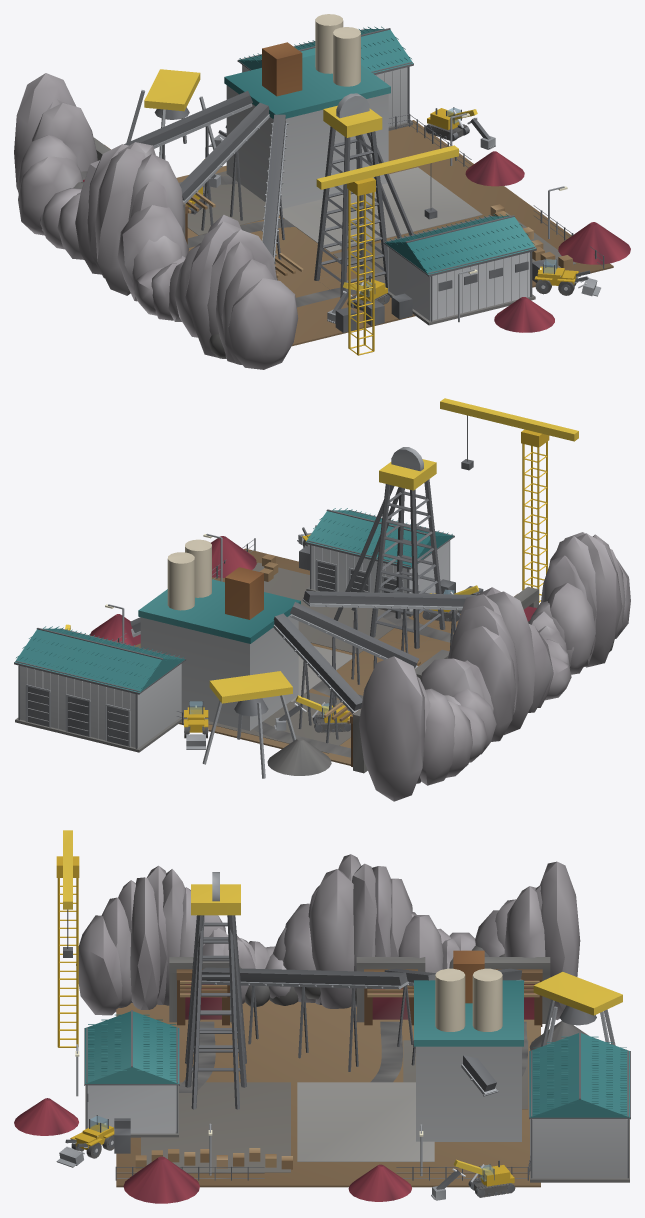
The model's file is Mine_P3.fbx.
3 renders of one model, top to bottom at view 1: azimuth 30°, elevation 25°; view 2: azimuth 150°, elevation 25°; view 3: azimuth 270°, elevation 25°, orthographic. The views are drawn at different scales.
Parts seen in each view (by area): view 1: Mine.Cliff, Mine.Apron, Mine.Plant, Mine.Winder, Mine.Headframe, Mine.Crane, Mine.Crusher, Mine.Conv1, Mine.LoadGantry, Mine.Conv0, Mine.Clutter, Mine.Conv2 (+8 smaller); view 2: Mine.Cliff, Mine.Plant, Mine.Crusher, Mine.Apron, Mine.Headframe, Mine.Winder, Mine.Crane, Mine.Conv0, Mine.LoadGantry, Mine.Conv2, Mine.Conv1, Mine.Spoil2 (+8 smaller); view 3: Mine.Apron, Mine.Cliff, Mine.Plant, Mine.Crusher, Mine.Winder, Mine.Headframe, Mine.Conv0, Mine.LoadGantry, Mine.Crane, Mine.Adit1, Mine.Adit0, Mine.Spoil0 (+12 smaller).
Boxes of the visible parts, x1,y1,x2,y2 form: Mine.Cliff: (14, 73, 298, 369); Mine.Apron: (176, 120, 613, 346); Mine.Plant: (224, 14, 390, 209); Mine.Winder: (383, 214, 536, 325); Mine.Headframe: (314, 93, 413, 297); Mine.Crane: (316, 145, 458, 355); Mine.Crusher: (237, 26, 413, 130); Mine.Conv1: (180, 103, 269, 230); Mine.LoadGantry: (126, 69, 221, 167); Mine.Conv0: (261, 114, 288, 280); Mine.Clutter: (335, 204, 572, 332); Mine.Conv2: (124, 91, 252, 193); Mine.Cliff: (359, 532, 630, 801); Mine.Plant: (138, 539, 300, 730); Mine.Crusher: (14, 626, 186, 752); Mine.Apron: (134, 548, 460, 765); Mine.Headframe: (334, 447, 445, 648); Mine.Winder: (305, 508, 454, 616); Mine.Crane: (440, 398, 578, 602); Mine.Conv0: (302, 591, 476, 684); Mine.LoadGantry: (202, 671, 296, 778); Mine.Conv2: (273, 613, 362, 743); Mine.Conv1: (290, 602, 418, 705); Mine.Spoil2: (267, 738, 331, 775); Mine.Apron: (116, 1000, 540, 1187); Mine.Cliff: (76, 854, 580, 1019); Mine.Plant: (414, 950, 523, 1141); Mine.Crusher: (529, 1032, 630, 1182); Mine.Winder: (84, 1010, 179, 1137); Mine.Headframe: (185, 872, 246, 1109); Mine.Conv0: (201, 967, 408, 1071); Mine.LoadGantry: (533, 972, 622, 1046); Mine.Crane: (56, 830, 79, 1047); Mine.Adit1: (356, 957, 425, 1025); Mine.Adit0: (169, 957, 231, 1025); Mine.Spoil0: (123, 1156, 199, 1203).
Bounding box in the file's own units: 8747 × 3926 × 9879.
